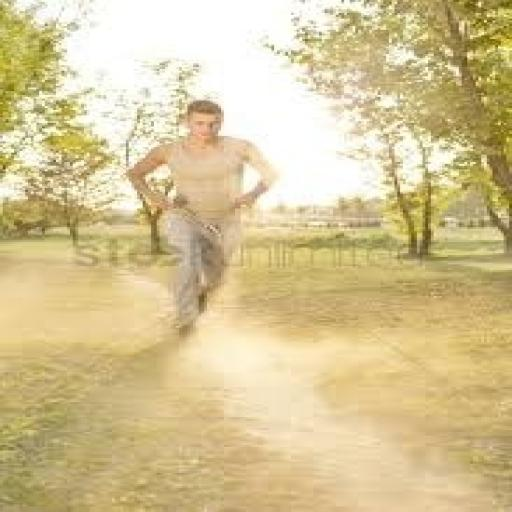listening_to_music: (123, 97, 283, 337)
